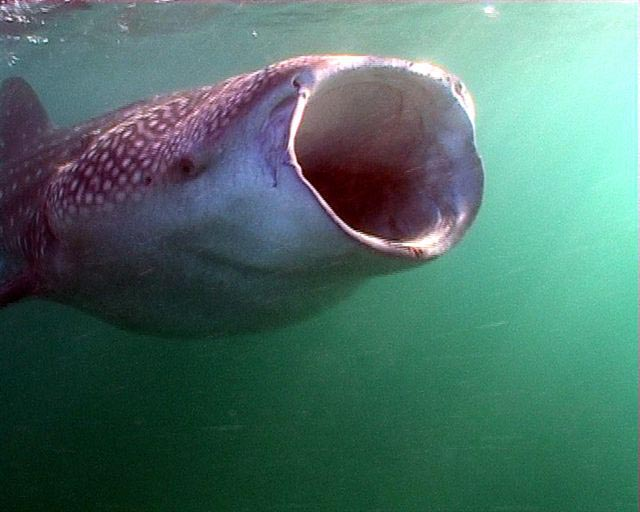Rhincodon_typusw: (1, 42, 504, 363)
